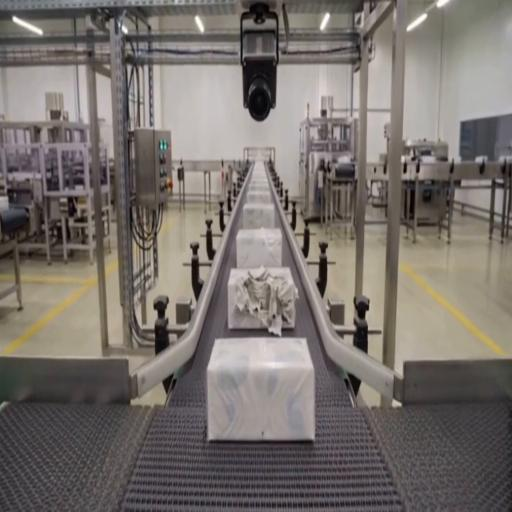defective: (206, 336, 314, 443), (226, 266, 298, 331)
good: (235, 226, 283, 268), (242, 201, 278, 234), (246, 177, 273, 202), (247, 162, 271, 186), (251, 150, 269, 163)
